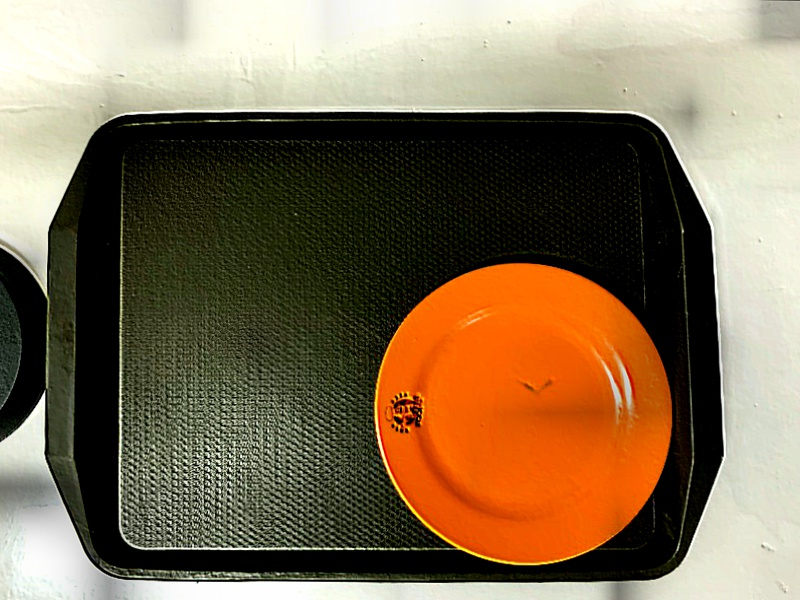dish10: (365, 250, 679, 566)
